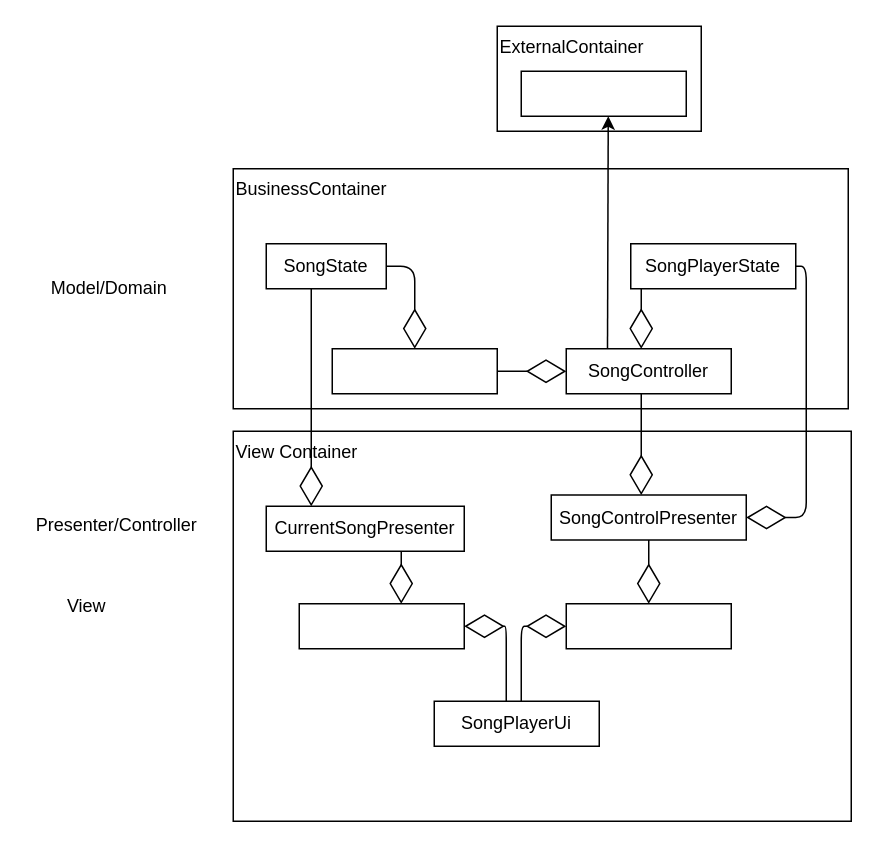
The diagram is 878 pixels wide and 848 high, and some of its shapes have lost their labels. The shapes that lost their labels are listed below. From the top down, each one's centre as x and y in pixels, then its label:
point 603,93: SongUrlProvider
point 414,370: SongPlayer
point 381,625: CurrentSongView
point 648,625: SongControlView
